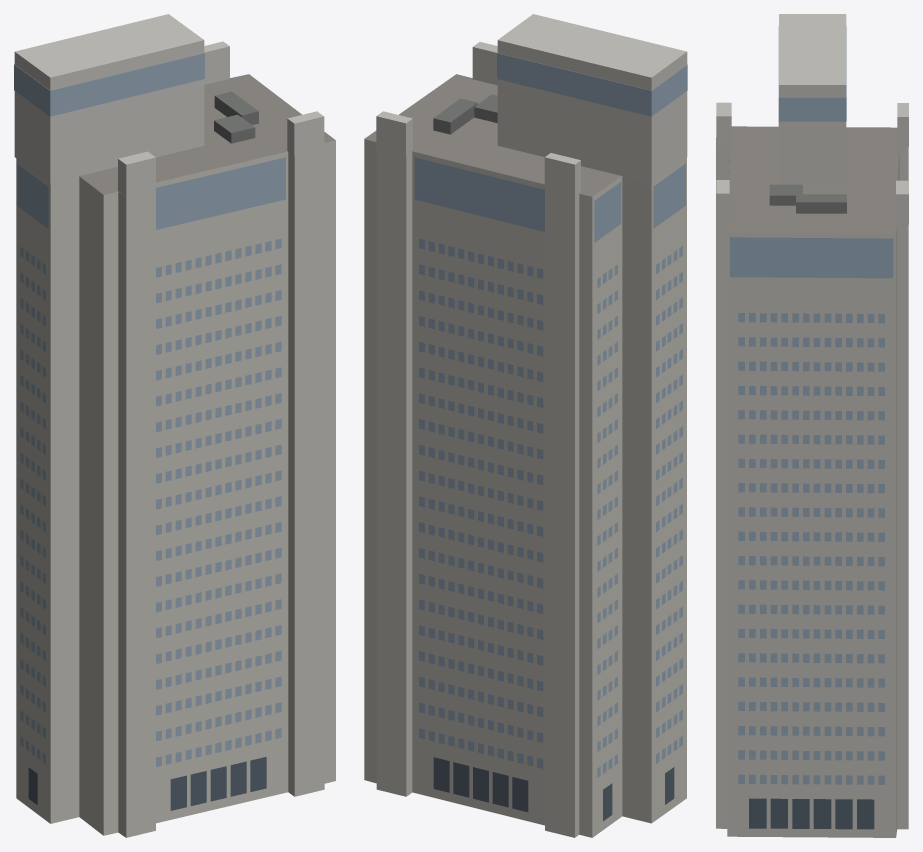
Rendered from worthen-bank-building.glb.
3 renders of one model, left to right at view 1: azimuth 30°, elevation 25°; view 2: azimuth 150°, elevation 25°; view 3: azimuth 270°, elevation 25°, orthographic. The views are drawn at different scales.
Visible parts, largest first — view 1: worthen_bank_building; view 2: worthen_bank_building; view 3: worthen_bank_building.
Part boxes in pixels (x1,y1,x2,y2): worthen_bank_building: (14, 14, 335, 837); worthen_bank_building: (364, 14, 687, 837); worthen_bank_building: (716, 14, 908, 837).
Size of the model in its own units: 42.27 by 115 by 28.63.
